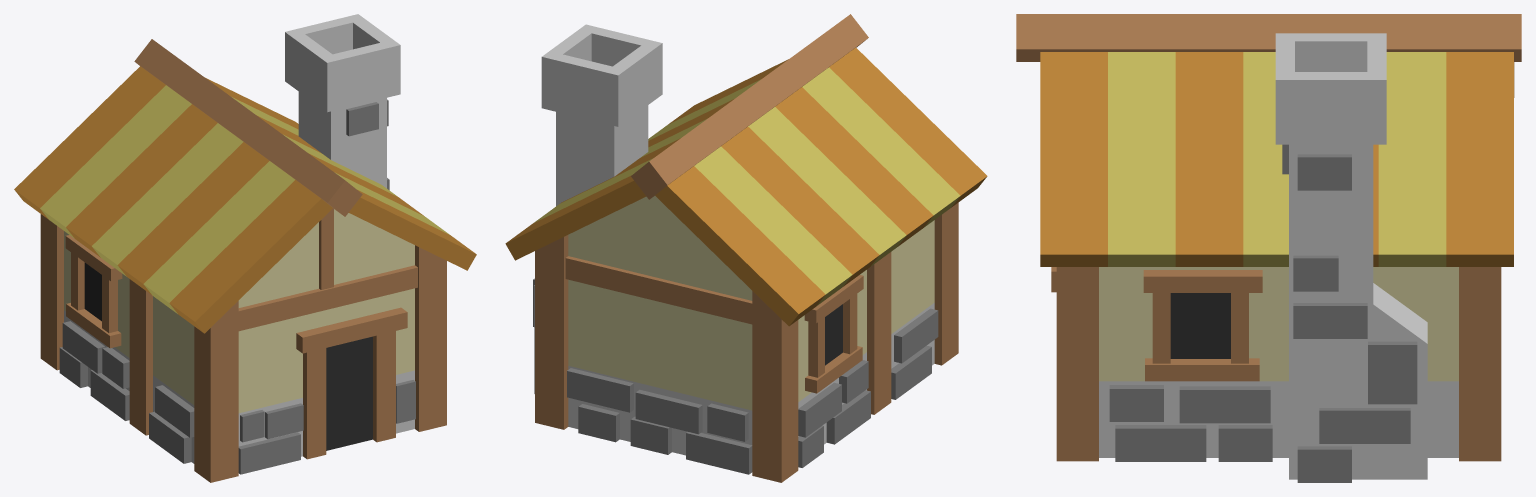
The model's file is PeasantHouseT1lv2.fbx.
3 views of the same model, side by side, from view 1: azimuth 30°, elevation 25°; view 2: azimuth 150°, elevation 25°; view 3: azimuth 270°, elevation 25° (orthographic). The views are drawn at different scales.
Visible parts, largest first — view 1: Cube.038, Cube.156, Cube.107, Cube.143, Cube.155, Cube.039, Cube.154, Cube.134, Cube.150, Cube.151, Cube.152, Cube.149 (+20 smaller); view 2: Cube.038, Cube.156, Cube.107, Cube.143, Cube.152, Cube.039, Cube.153, Cube.145, Cube.155, Cube.151, Cube.131, Cube.114 (+16 smaller); view 3: Cube.039, Cube.107, Cube.143, Cube.156, Cube.153, Cube.154, Cube.131, Cube.132, Cube.121, Cube.120, Cube.106, Cube.104 (+10 smaller).
Part boxes in pixels (x1,y1,x2,y2): Cube.038: (14, 66, 332, 333); Cube.156: (64, 209, 414, 413); Cube.107: (285, 14, 400, 188); Cube.143: (134, 39, 362, 216); Cube.155: (194, 301, 238, 482); Cube.039: (206, 78, 476, 270); Cube.154: (415, 245, 446, 431); Cube.134: (326, 336, 372, 450); Cube.150: (238, 265, 417, 331); Cube.151: (129, 279, 152, 435); Cube.152: (40, 214, 63, 370); Cube.149: (303, 348, 326, 459); Cube.038: (655, 48, 987, 326); Cube.156: (568, 196, 934, 410); Cube.107: (534, 24, 662, 393); Cube.143: (631, 14, 868, 199); Cube.152: (752, 291, 798, 482); Cube.039: (505, 59, 788, 260); Cube.153: (535, 235, 568, 429); Cube.145: (565, 256, 752, 324); Cube.155: (934, 202, 958, 365); Cube.151: (867, 252, 891, 414); Cube.131: (568, 303, 934, 455); Cube.114: (635, 389, 702, 434); Cube.039: (1040, 52, 1513, 266); Cube.107: (1275, 33, 1427, 479); Cube.143: (1016, 14, 1521, 61); Cube.156: (1099, 267, 1458, 381); Cube.153: (1459, 267, 1501, 461); Cube.154: (1056, 267, 1098, 461); Cube.131: (1099, 381, 1458, 457); Cube.132: (1170, 293, 1230, 358); Cube.121: (1179, 386, 1270, 423); Cube.120: (1115, 425, 1206, 461); Cube.106: (1319, 408, 1410, 443); Cube.104: (1368, 341, 1417, 404).
Bounding box in the file's own units: 527 × 529 × 598.
